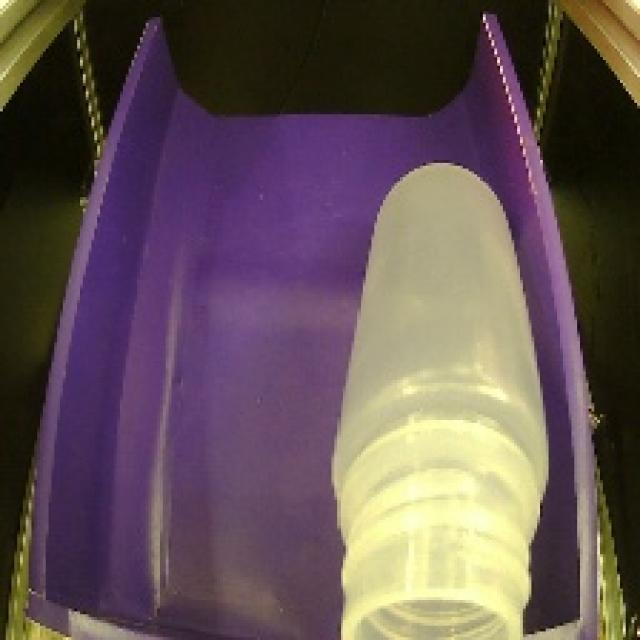plastic: (314, 162, 576, 640)
